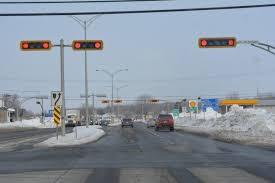signal: (198, 37, 237, 48), (19, 39, 51, 50), (72, 39, 104, 50)
